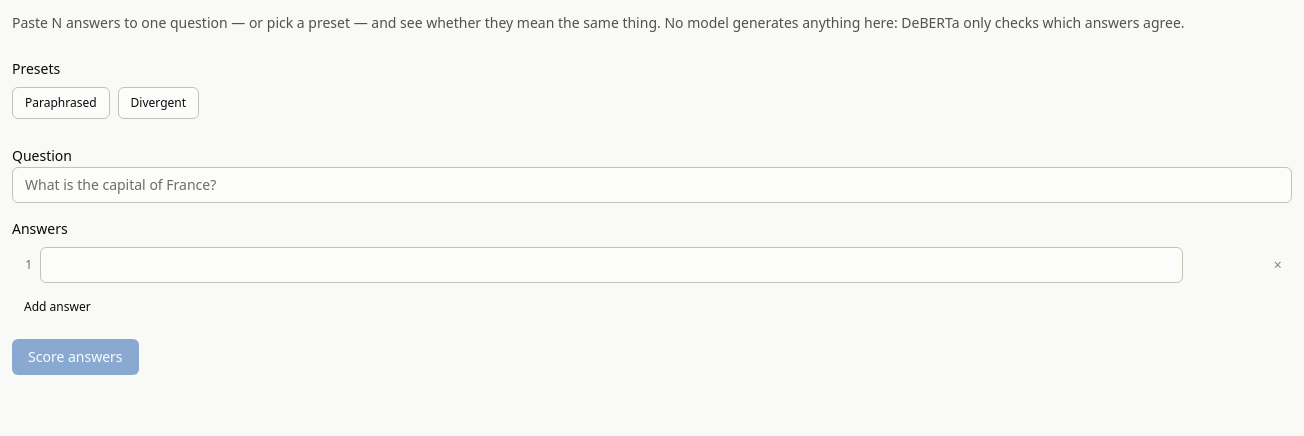
Scenario: ScoreTab › removes an answer
Click the button "paraphrased" at point(61, 103), box [12, 87, 110, 119]
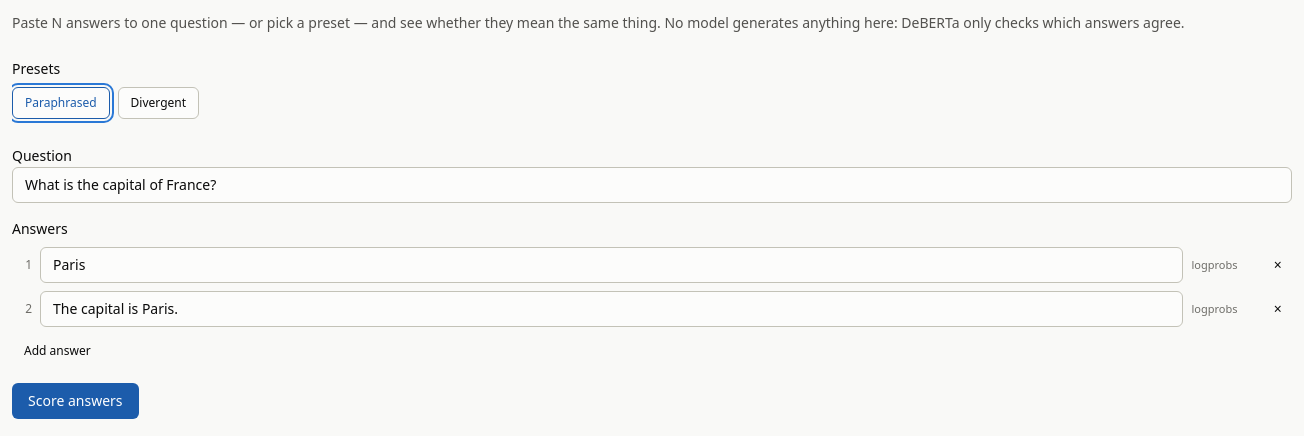
Click the button named "Remove answer 1" at point(1278, 265), box [1264, 249, 1292, 281]
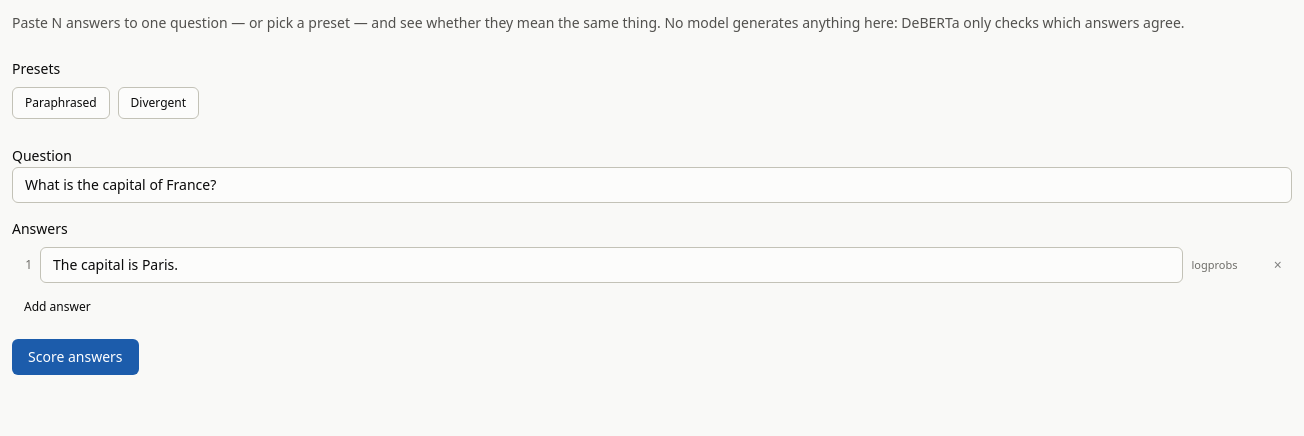
Now the field named "Answer 1" holds "The capital is Paris.", box [40, 247, 1184, 283]
Now the number of fields named "Answer 1" is 1, box [40, 247, 1184, 283]
